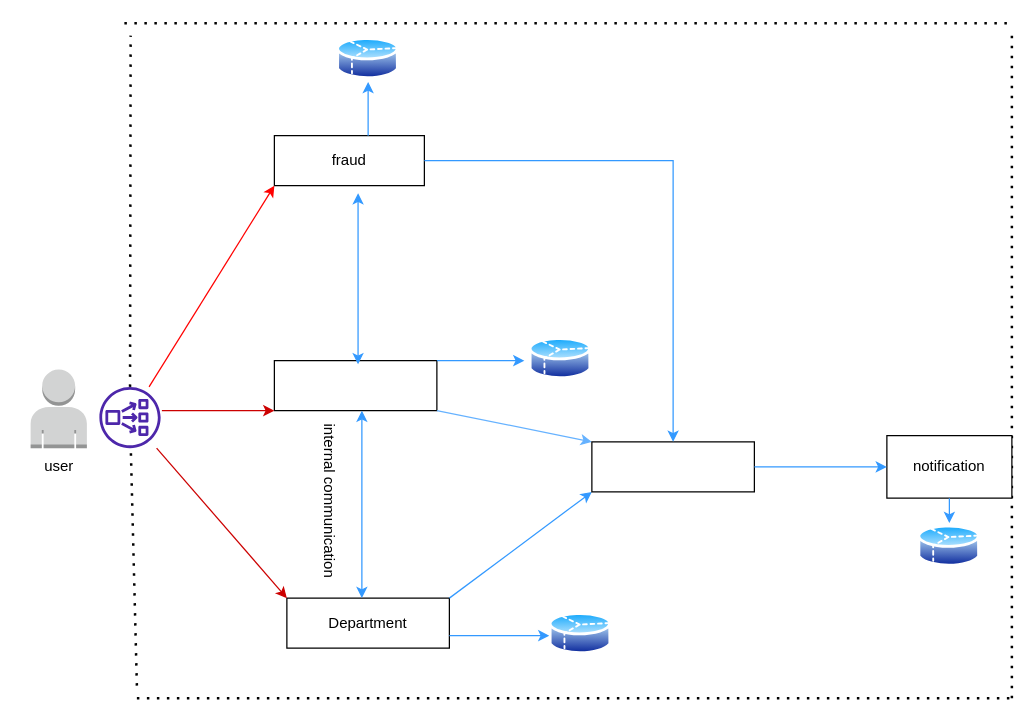
Some shapes in this 1036 by 721 pixel diagram are drawn without their labels. Here are the shapes that lost their labels. From the top down, the centre of each, then its label:
At pixel 355 385: "Teacher".
At pixel 672 466: "kafka".
